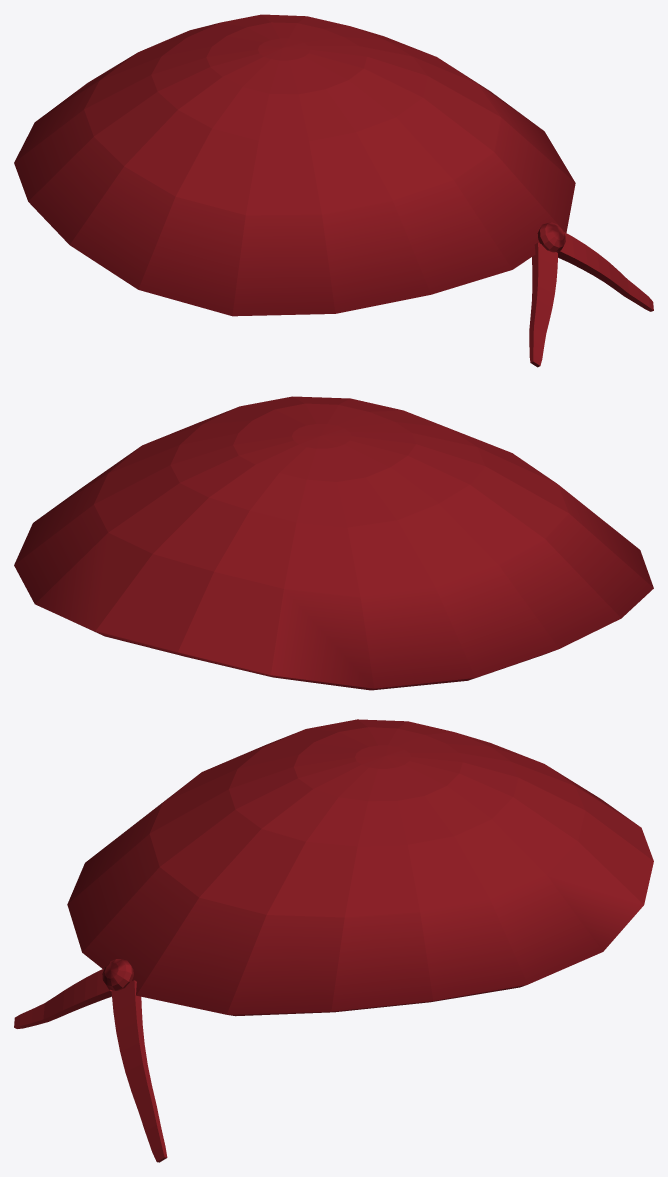
Rendered from Cosmetic_Kraken_Bandana.glb.
3 renders of one model, top to bottom at view 1: azimuth 30°, elevation 25°; view 2: azimuth 150°, elevation 25°; view 3: azimuth 270°, elevation 25°, orthographic. The views are drawn at different scales.
Parts seen in each view (by area): view 1: Kraken_Bandana; view 2: Kraken_Bandana; view 3: Kraken_Bandana.
Part boxes in pixels (box(x1,y1,x2,y2)): Kraken_Bandana: box(14, 14, 653, 367); Kraken_Bandana: box(14, 396, 653, 690); Kraken_Bandana: box(14, 719, 653, 1162).
Size of the model in its own units: 1.02 by 0.4843 by 1.04.
